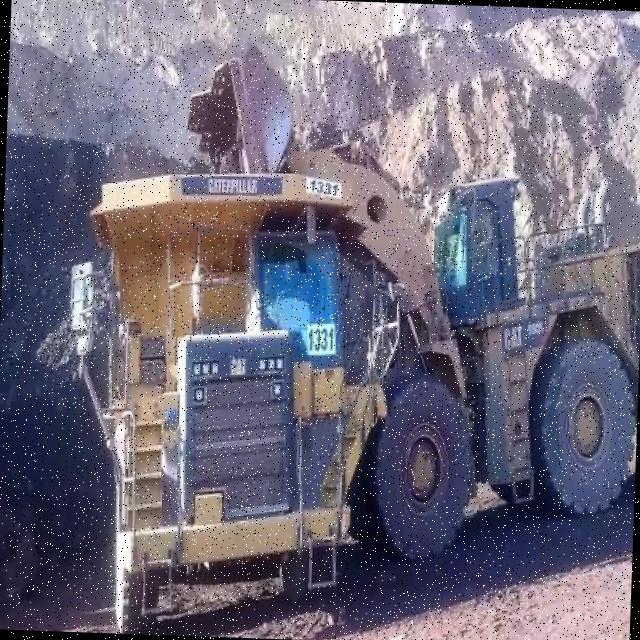Dump Truck: (57, 163, 358, 640)
Loader: (172, 44, 640, 567)
